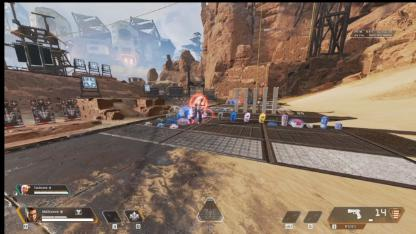Target: (190, 96, 206, 124)
